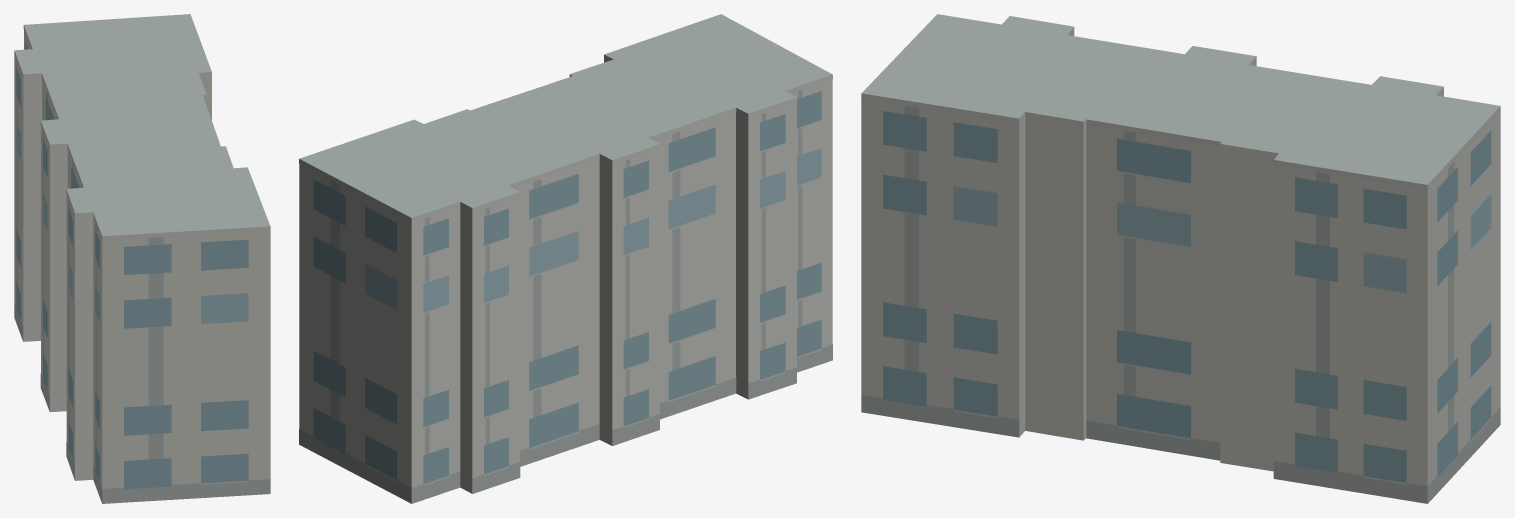
Rendered from survey-upis-32880526.glb.
The picture shows the model from 3 angles, left to right: view 1: azimuth 30°, elevation 25°; view 2: azimuth 150°, elevation 25°; view 3: azimuth 270°, elevation 25°; orthographic projection. The views are drawn at different scales.
Parts seen in each view (by area): view 1: survey-upis-32880526.tmp; view 2: survey-upis-32880526.tmp; view 3: survey-upis-32880526.tmp.
Boxes of the visible parts, x1=… form: survey-upis-32880526.tmp: x1=14, y1=14, x2=270, y2=503; survey-upis-32880526.tmp: x1=299, y1=14, x2=832, y2=503; survey-upis-32880526.tmp: x1=861, y1=14, x2=1500, y2=503.
Bounding box in the file's own units: 16.56 × 14.4 × 26.16.
